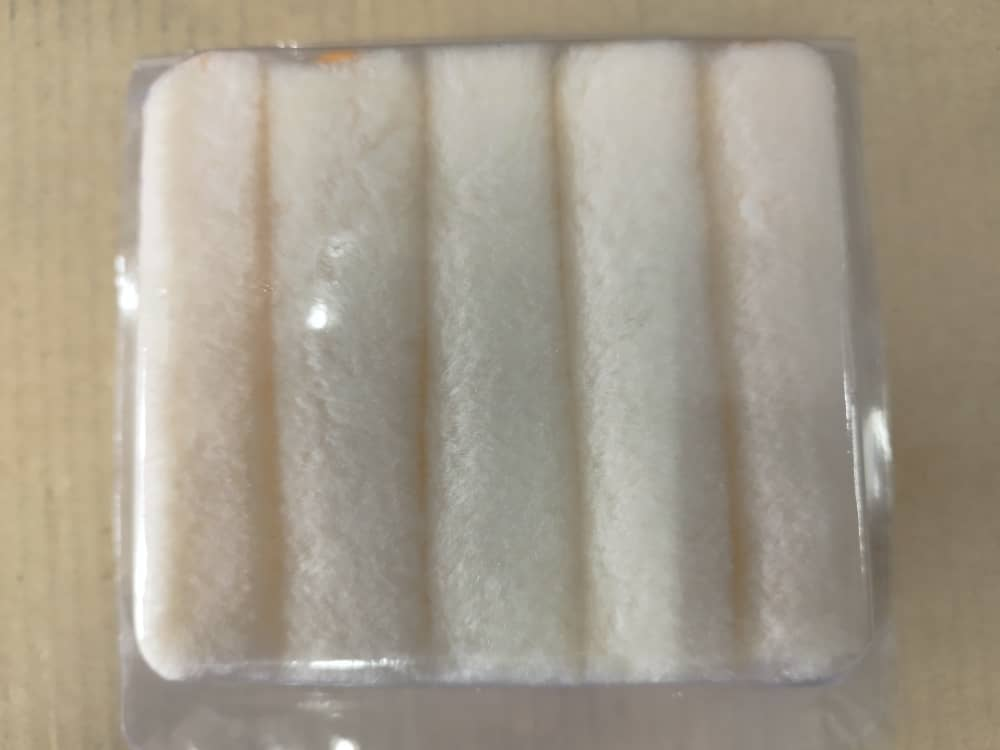sku_paint_roller: (125, 46, 880, 685)
